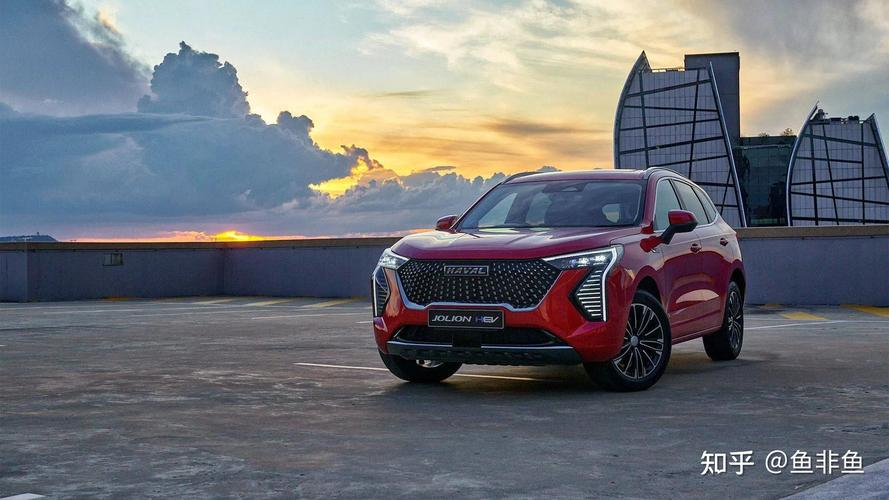汽车: (356, 162, 757, 388)
